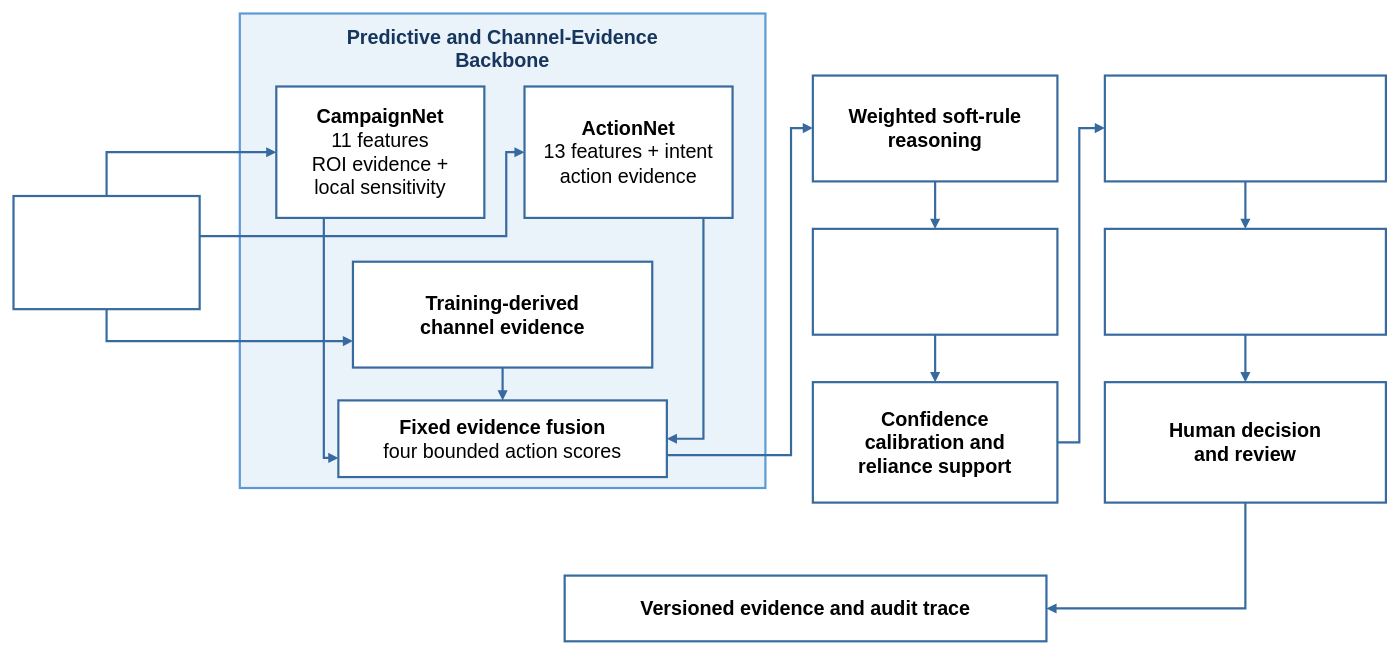
This 1399x655 diagram has some shape labels left out. Here are the shapes that lost their labels. From the top down, the centre of each, then its label:
At point 1245,128: "Structured explanation Driver–Implication Action–Caveat".
At point 106,252: "Validated campaign case and selected business intent".
At point 934,281: "Intent-aware score adjustment".
At point 1245,281: "Recommendation package action, confidence, alternatives and trace".
